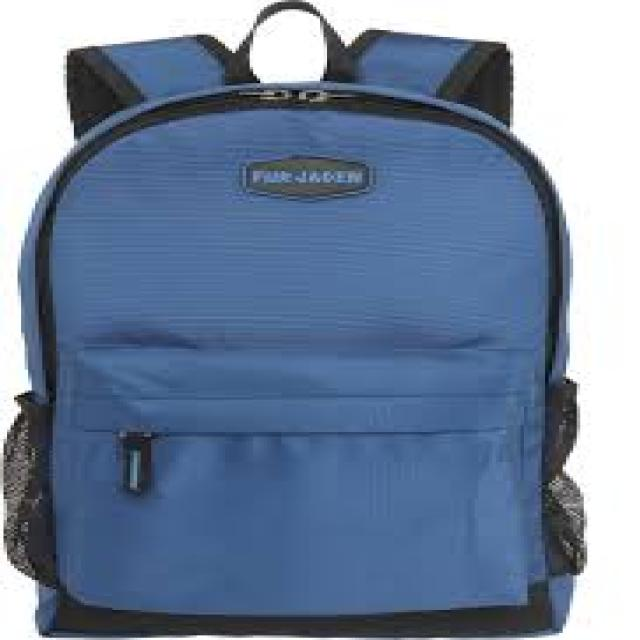backpack: (1, 1, 588, 638)
